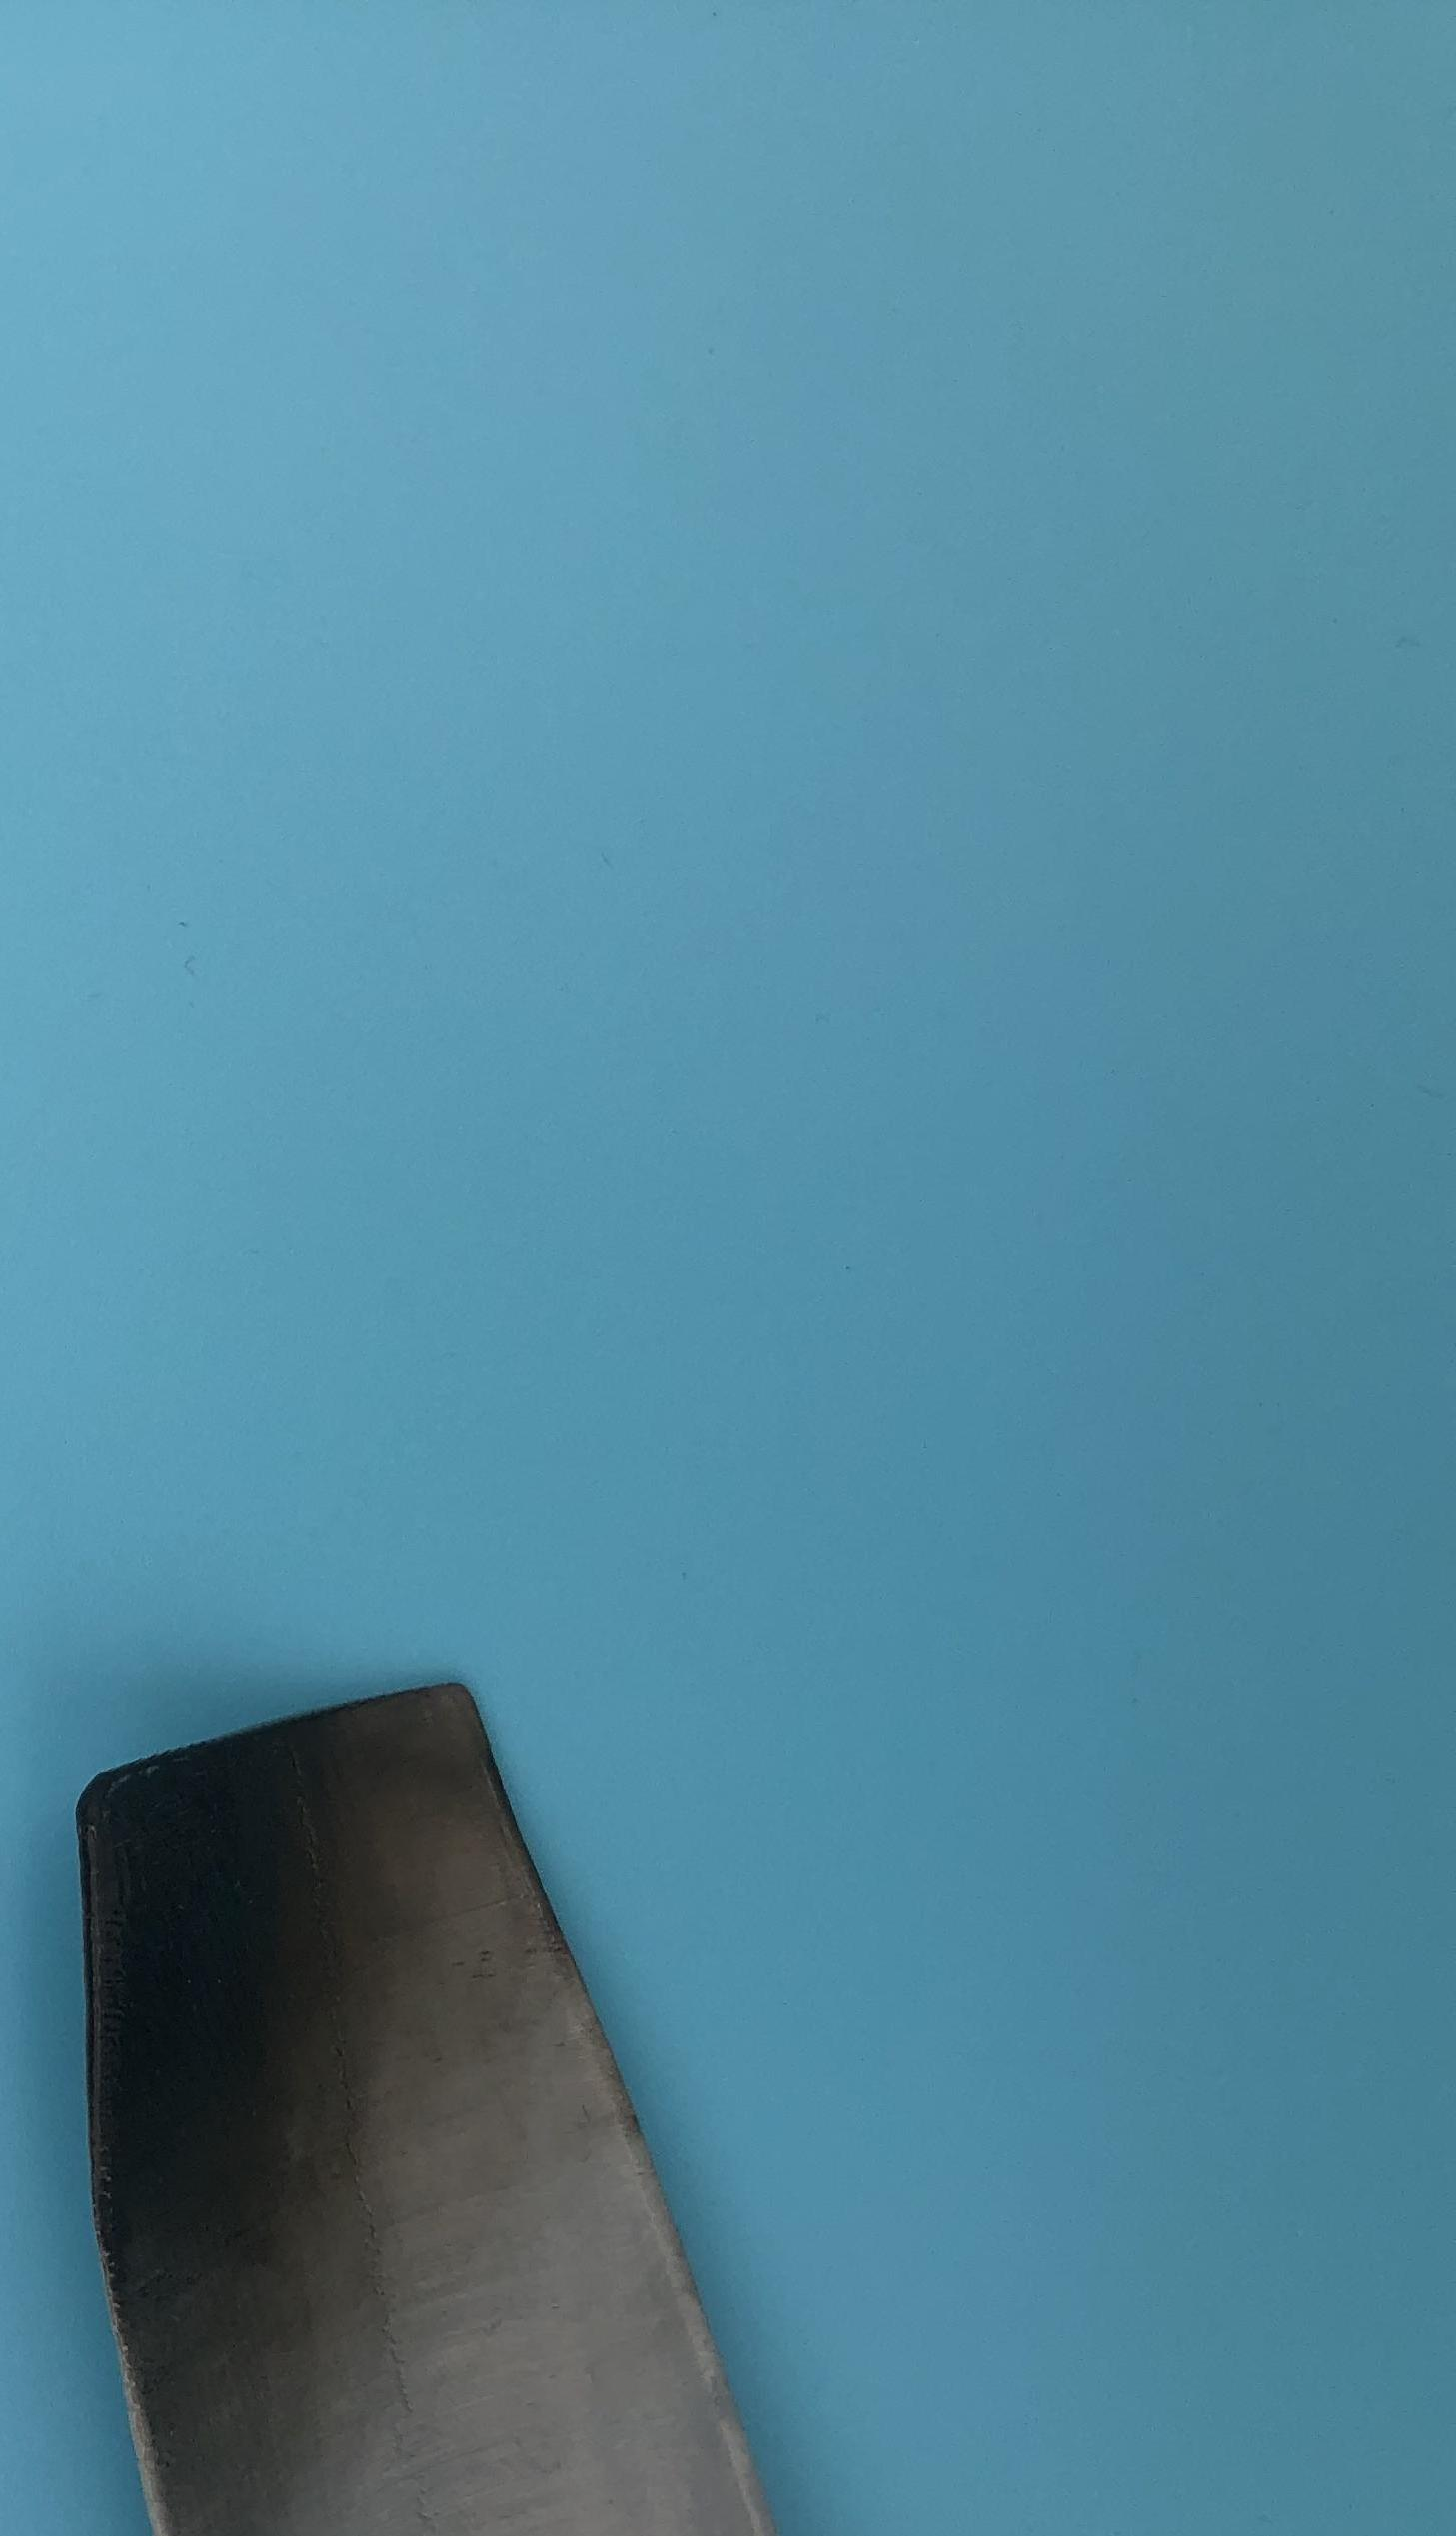ablation: (78, 1773, 427, 2336)
